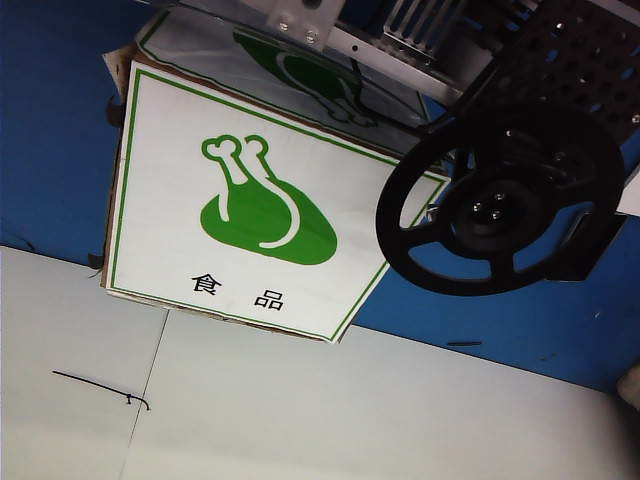Cube_food: (180, 125, 344, 320)
